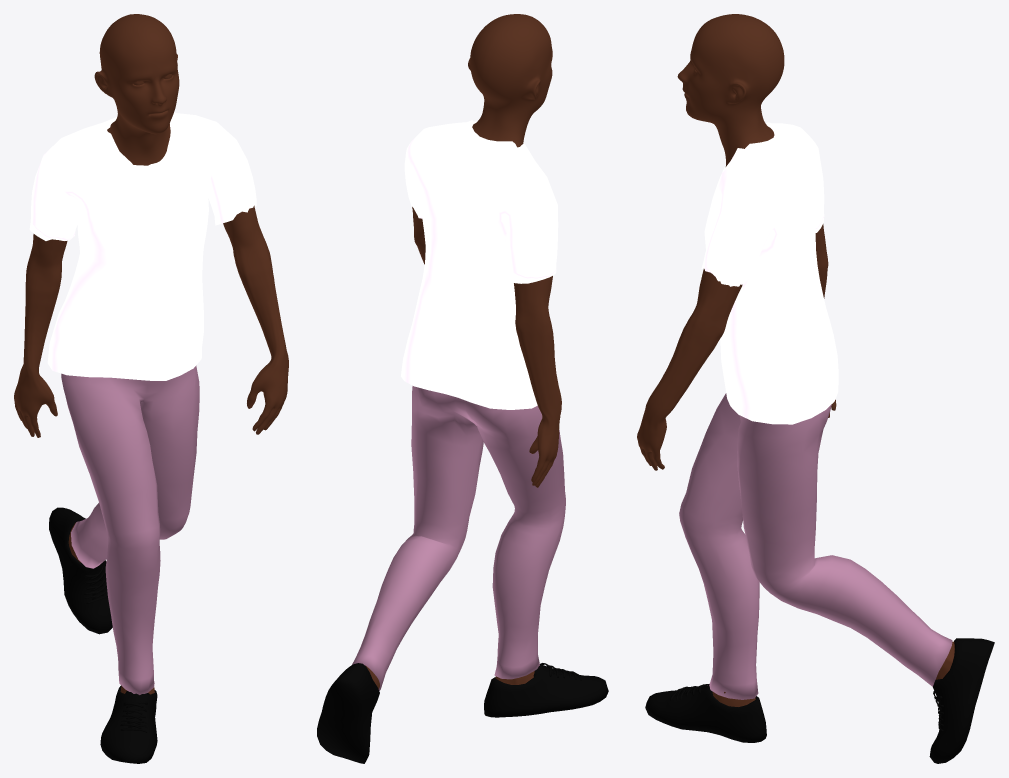
Rendered from Man_08_Walking-transformed.glb.
The picture shows the model from 3 angles, left to right: view 1: azimuth 30°, elevation 25°; view 2: azimuth 150°, elevation 25°; view 3: azimuth 270°, elevation 25°; orthographic projection. The views are drawn at different scales.
Parts seen in each view (by area): view 1: Top.002, Bottoms.002, Body.002, Shoes.002; view 2: Top.002, Bottoms.002, Body.002, Shoes.002; view 3: Bottoms.002, Top.002, Body.002, Shoes.002.
Part boxes in pixels (<box>): Top.002: <box>29,113,256,380</box>; Bottoms.002: <box>61,365,199,694</box>; Body.002: <box>14,14,288,694</box>; Shoes.002: <box>49,507,157,763</box>; Top.002: <box>401,120,558,409</box>; Bottoms.002: <box>352,386,565,690</box>; Body.002: <box>365,14,561,689</box>; Shoes.002: <box>317,663,608,763</box>; Bottoms.002: <box>679,393,952,699</box>; Top.002: <box>701,122,838,424</box>; Body.002: <box>637,14,954,706</box>; Shoes.002: <box>645,638,994,763</box>.
Size of the model in its own units: 0.4792 by 1.66 by 0.7516.
